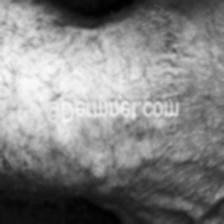Toxin: (54, 125, 166, 187), (46, 36, 130, 94)
